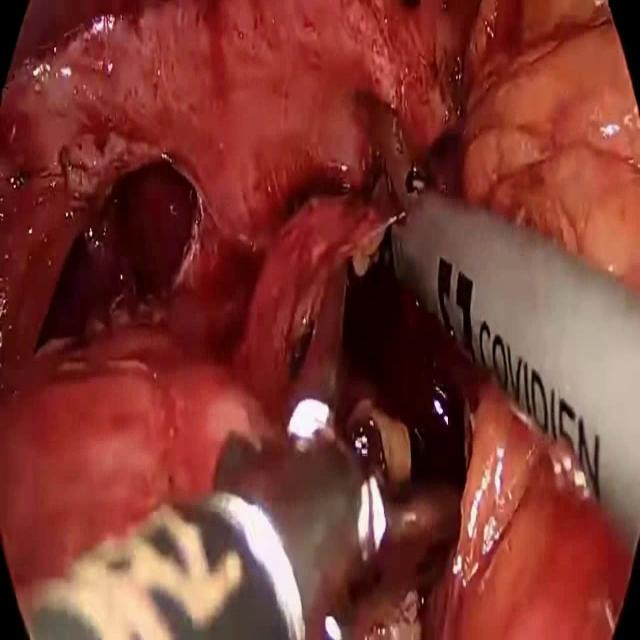surgical-area: (0, 0, 640, 639)
surgical-tool: (16, 405, 462, 639), (390, 187, 640, 541)
